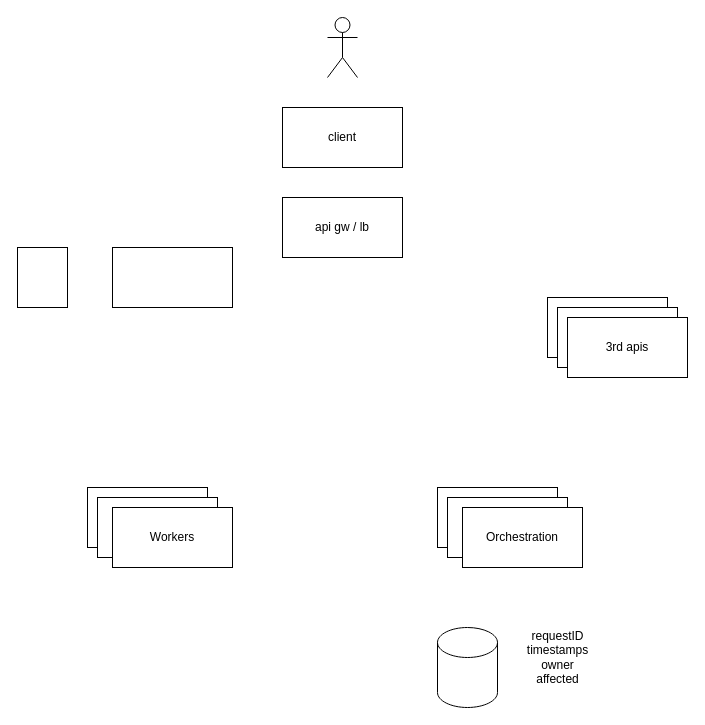
Image size: 705x725. Some labels were removed from this diagram. The shapes that lost their labels are listed below. From the top down, each one's centre as x and y in pixels, then its label:
At (342,47): "Actor".
At (42,277): "AD".
At (467,667): "requests".
